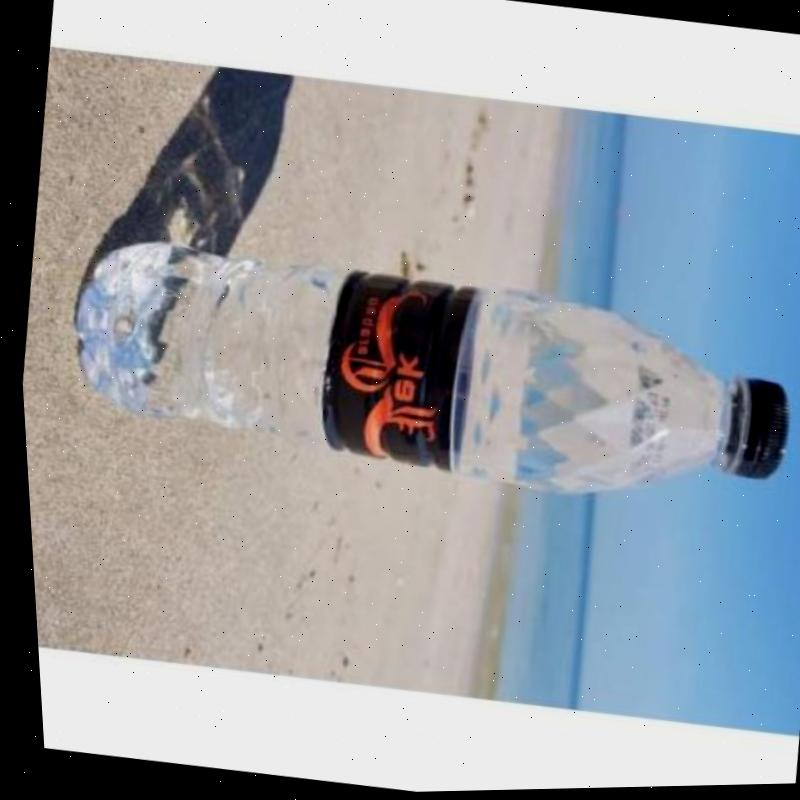botella: (49, 219, 800, 537)
